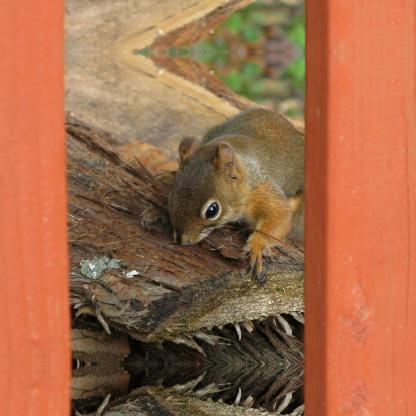Squirrel: (140, 107, 304, 279)
